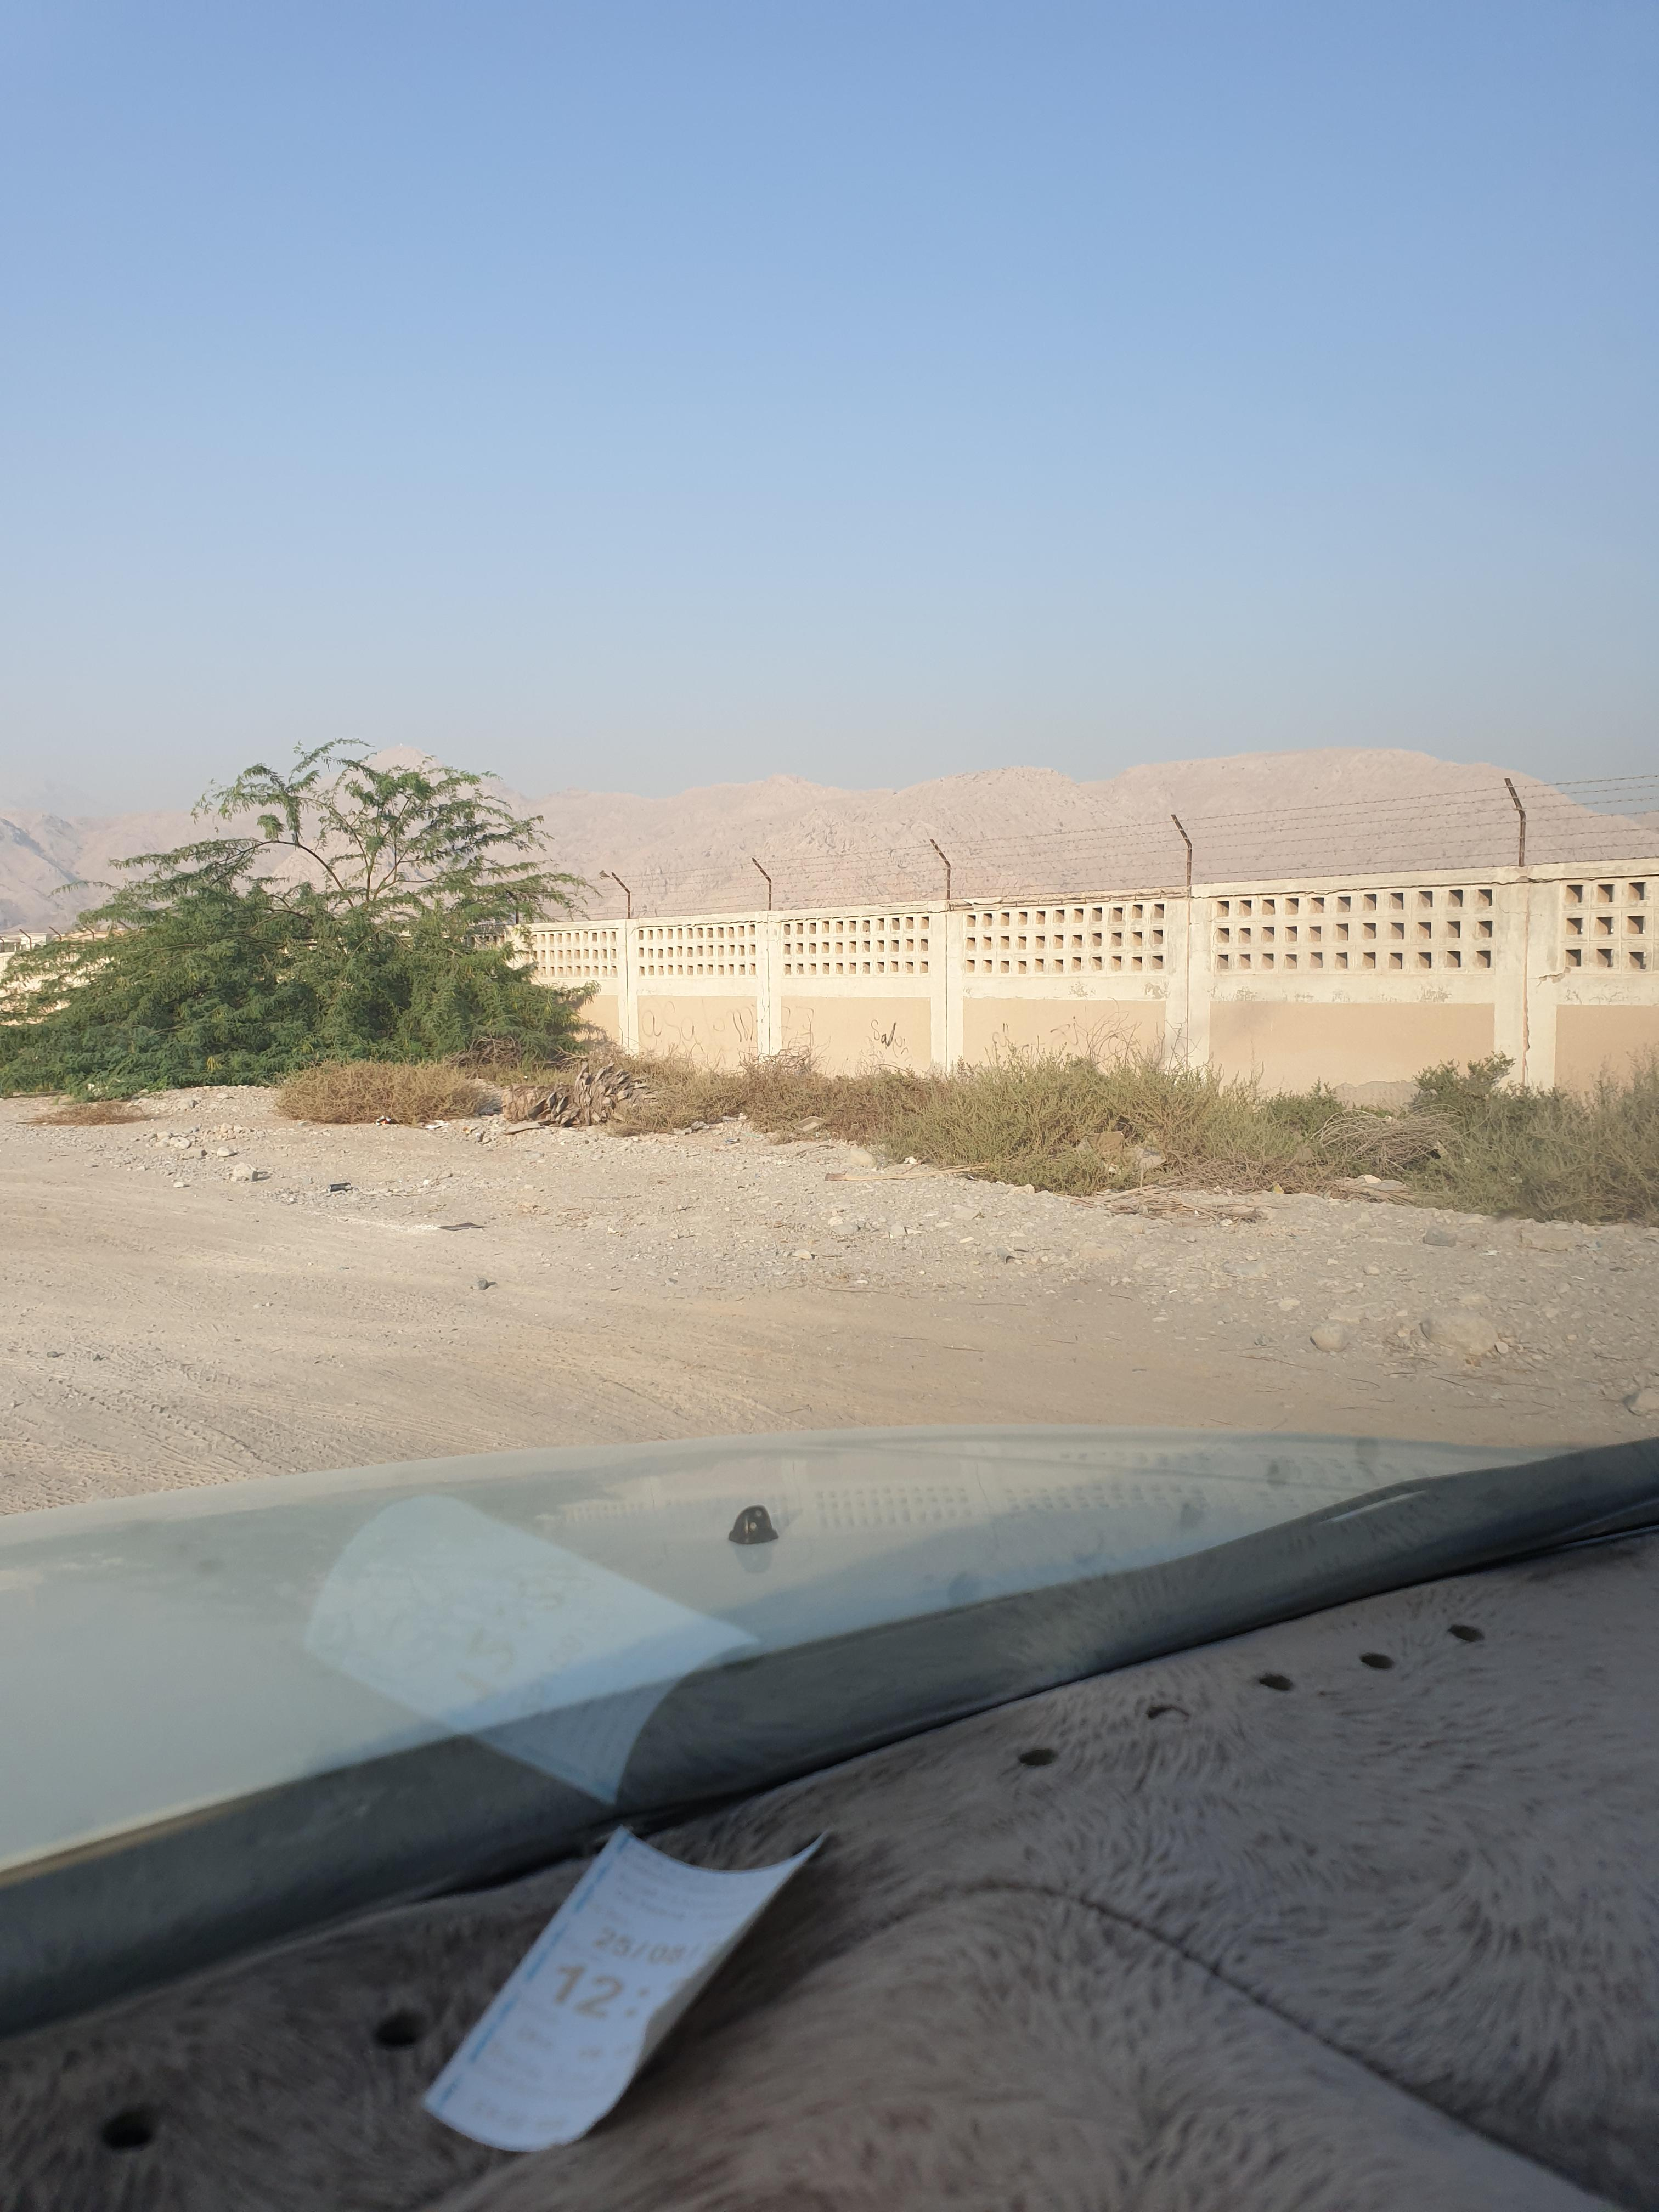fallen_trees: (530, 1066, 683, 1127)
